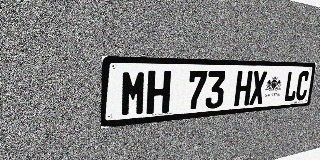3: (205, 71, 226, 109)
7: (185, 71, 208, 111)
C: (295, 71, 310, 101)
H: (146, 70, 171, 115), (234, 71, 253, 106)
L: (283, 71, 299, 102)
M: (120, 70, 147, 117)
X: (249, 71, 267, 105)
